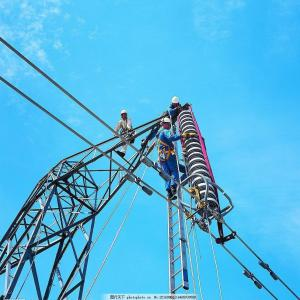white: (161, 118, 171, 131), (172, 96, 181, 108), (122, 110, 128, 120)
